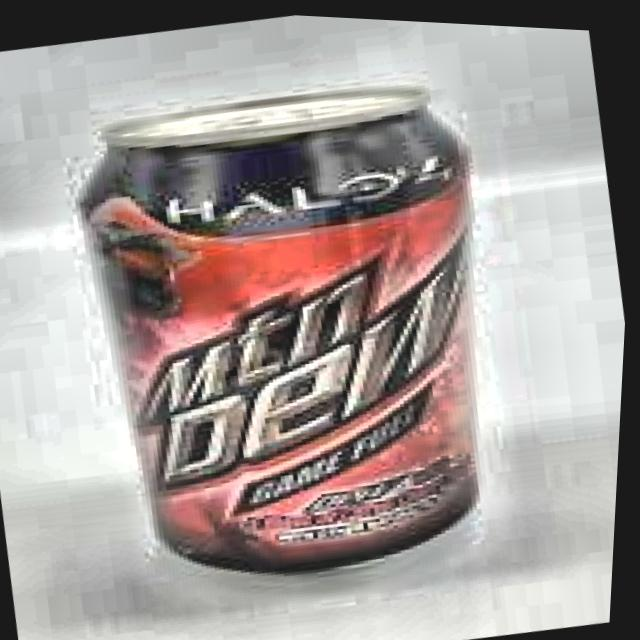Cans: (27, 33, 547, 615)
